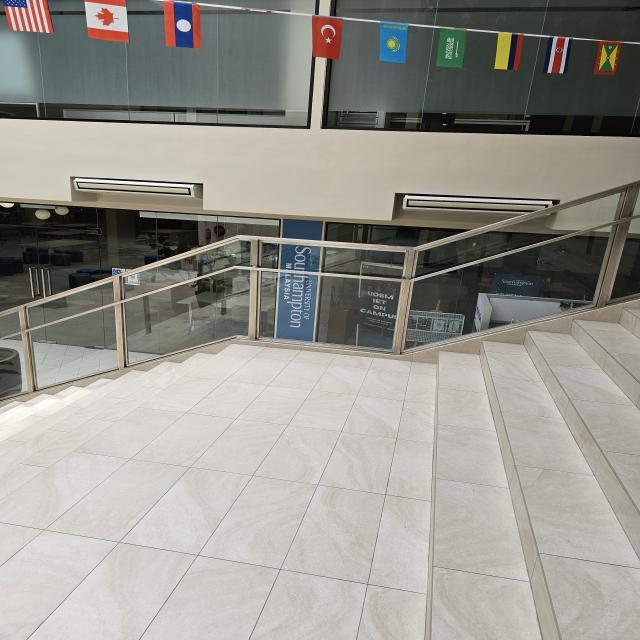footpath: (2, 372, 635, 640)
